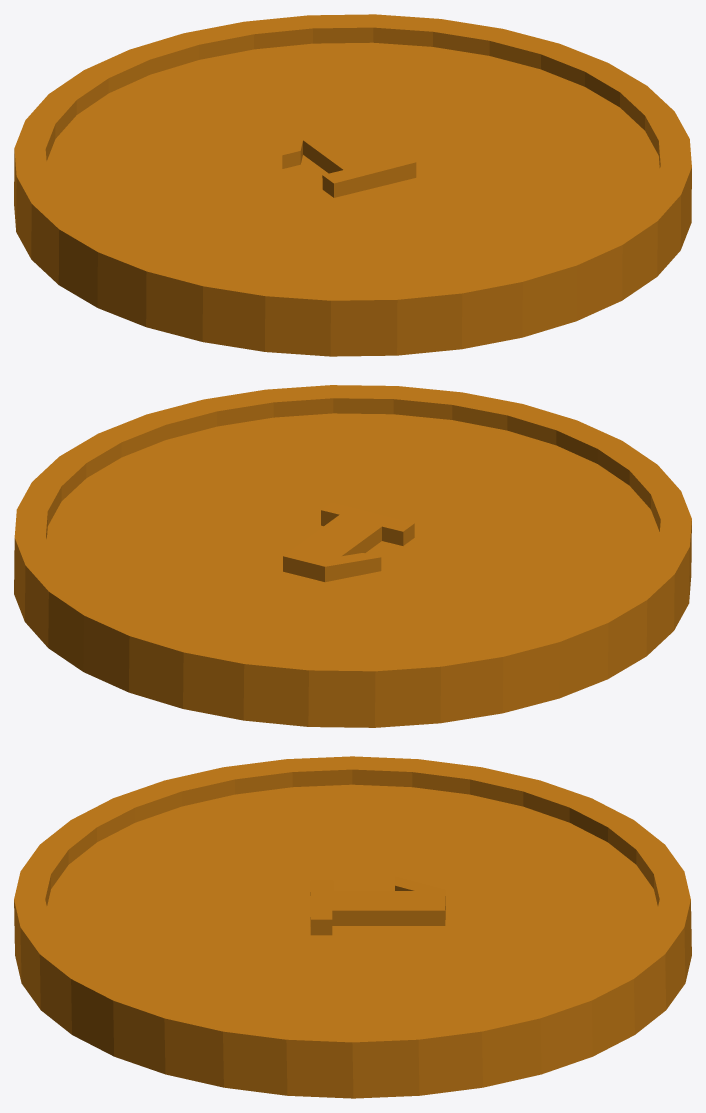
3 renders of one model, top to bottom at view 1: azimuth 30°, elevation 25°; view 2: azimuth 150°, elevation 25°; view 3: azimuth 270°, elevation 25°, orthographic.
Visible parts, largest first — view 1: Cylinder; view 2: Cylinder; view 3: Cylinder.
Boxes of the visible parts, <box> form: Cylinder: <box>14,14,691,356</box>; Cylinder: <box>14,385,691,727</box>; Cylinder: <box>14,756,691,1098</box>.
Bounding box in the file's own units: 2 × 0.1913 × 2.
